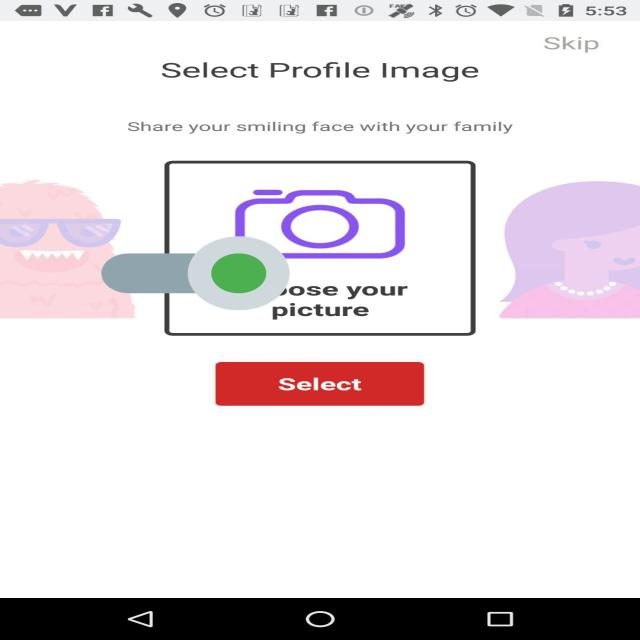social proof: (101, 205, 290, 342)
